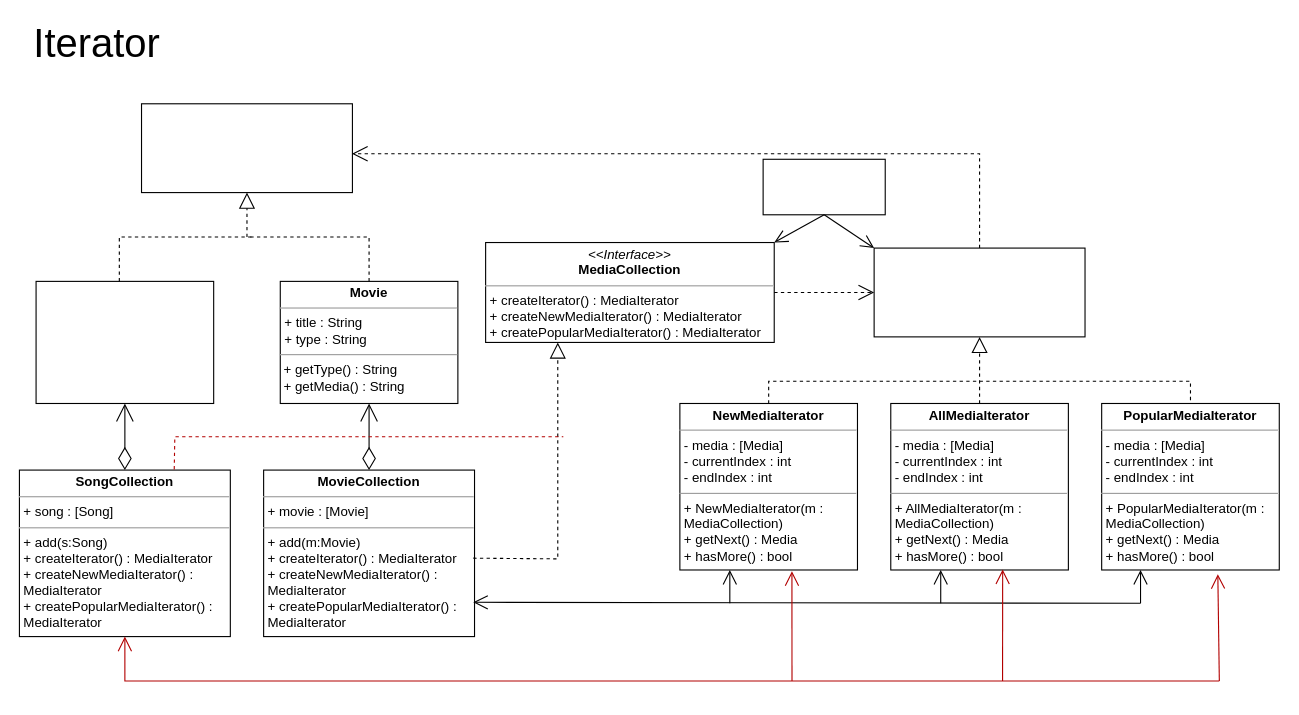
The diagram is 1299 pixels wide and 715 high, and some of its shapes have lost their labels. Each missing label, with the centre of its shape:
<<Interface>> Media + getType() : String + getMedia() : String: (x=246, y=148)
<<Interface>> MediaIterator + getNext() : Media + hasMore() : bool: (x=979, y=292)
Client: (x=823, y=186)
Song + title : String + type : String + getType() : String + getMedia() : String: (x=124, y=341)
